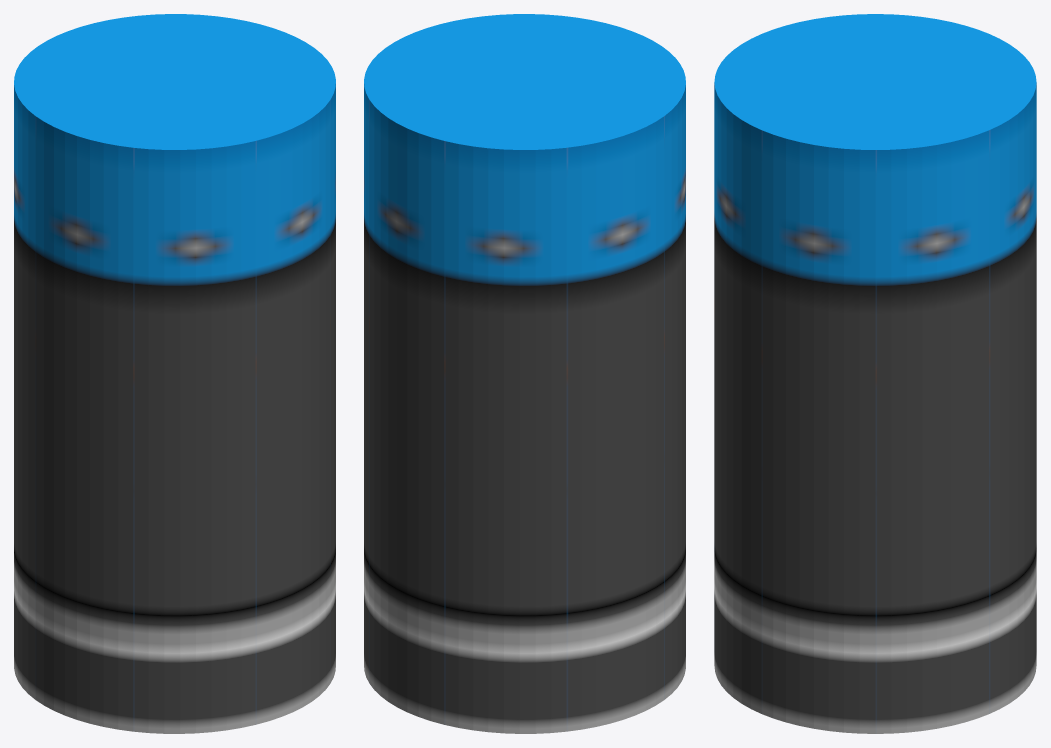
Rendered from info2.obj.
3 renders of one model, left to right at view 1: azimuth 30°, elevation 25°; view 2: azimuth 150°, elevation 25°; view 3: azimuth 270°, elevation 25°, orthographic.
Visible parts, largest first — view 1: Cylinder; view 2: Cylinder; view 3: Cylinder.
Boxes of the visible parts, bbox=[...] form: Cylinder: bbox=[14, 14, 335, 733]; Cylinder: bbox=[364, 14, 685, 733]; Cylinder: bbox=[714, 14, 1036, 733].
Size of the model in its own units: 3 by 6 by 3.
